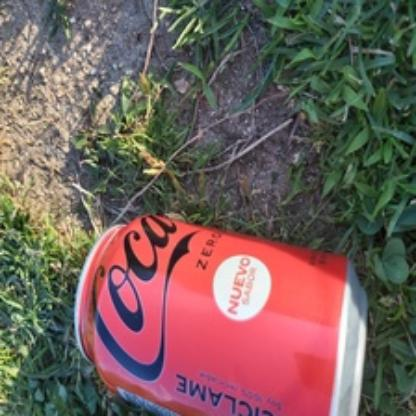Can: (74, 214, 370, 416)
